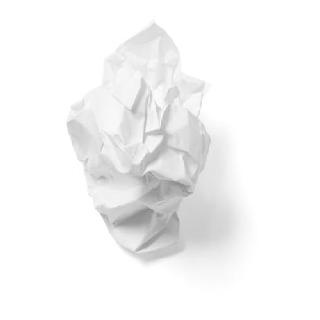8/可回收垃圾/纸: (66, 21, 211, 254)
